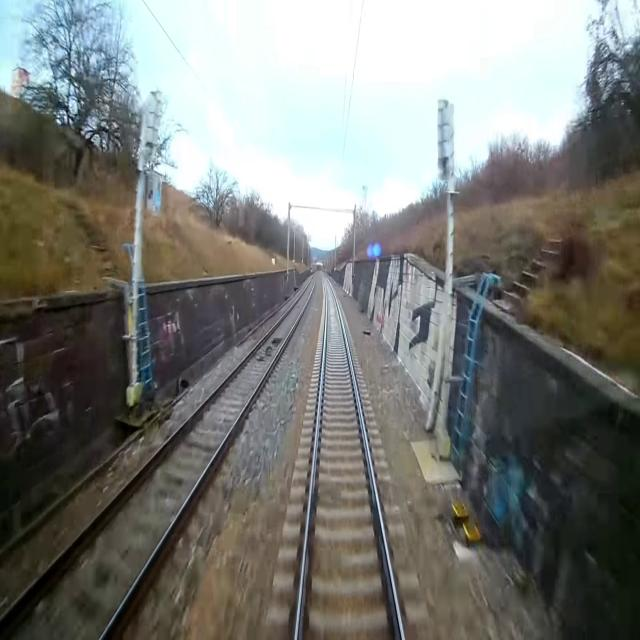rail-track: (0, 272, 315, 639), (300, 274, 401, 639), (315, 286, 325, 412)
